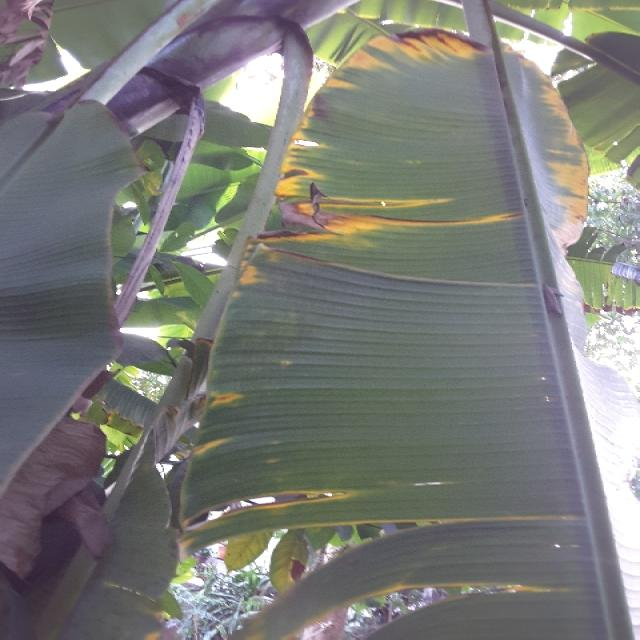Cordana: (169, 25, 640, 640)
